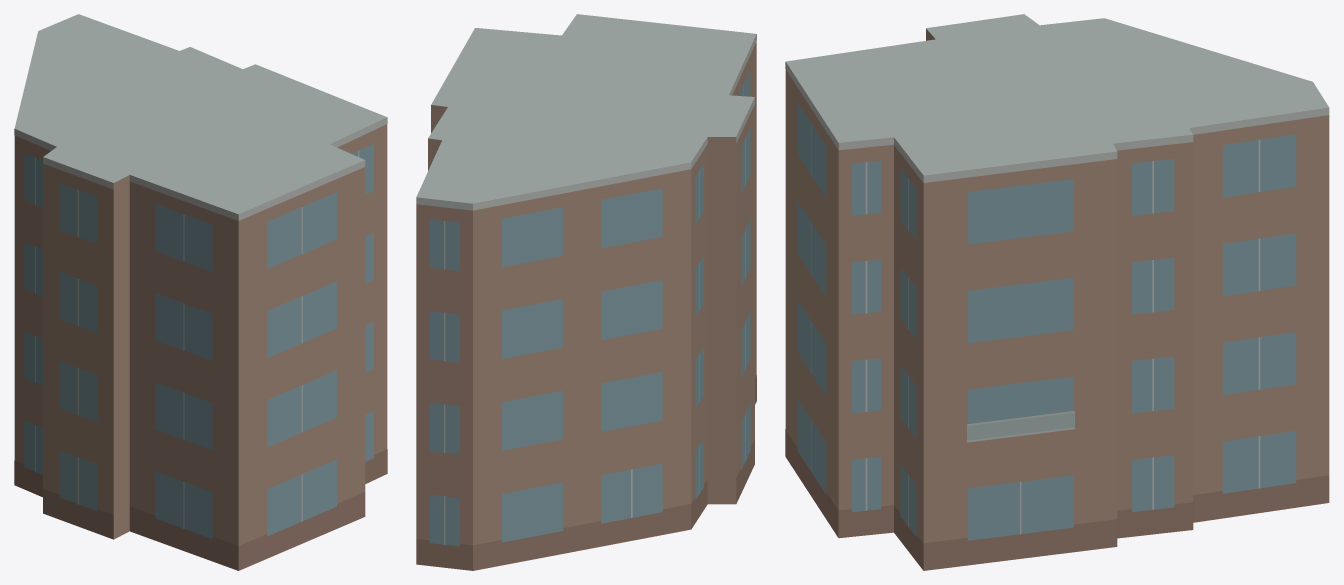
File: survey-upis-32619379.glb
3 renders of one model, left to right at view 1: azimuth 30°, elevation 25°; view 2: azimuth 150°, elevation 25°; view 3: azimuth 270°, elevation 25°, orthographic. The views are drawn at different scales.
Parts seen in each view (by area): view 1: survey-upis-32619379.tmp; view 2: survey-upis-32619379.tmp; view 3: survey-upis-32619379.tmp.
Boxes of the visible parts, x1,y1,x2,y2 form: survey-upis-32619379.tmp: (14, 14, 387, 570); survey-upis-32619379.tmp: (416, 14, 756, 570); survey-upis-32619379.tmp: (785, 14, 1329, 570).
Size of the model in its own units: 11.51 by 13.1 by 16.35.
